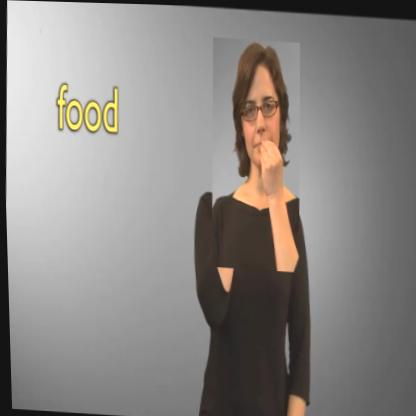Food: (205, 36, 305, 271)
